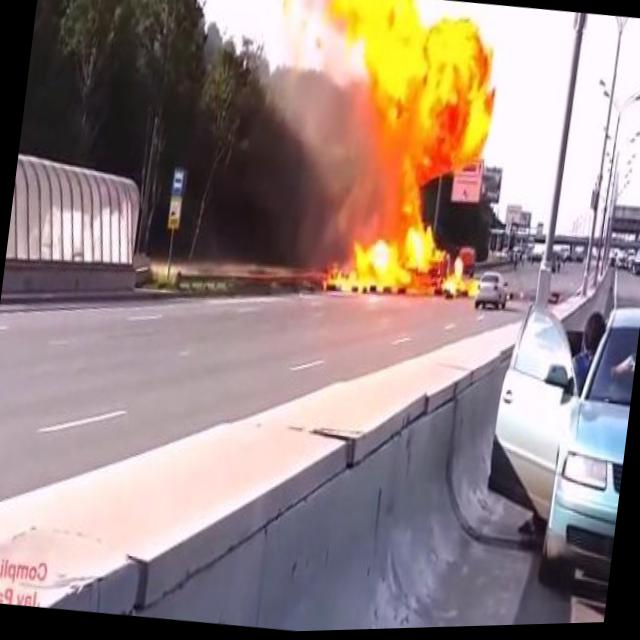fire: (287, 0, 501, 312)
